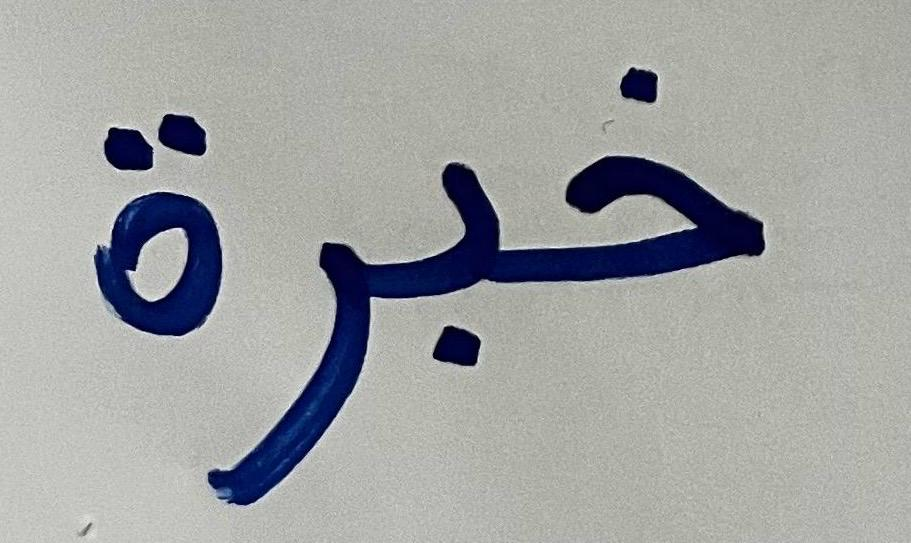beh: (384, 50, 527, 413)
khah: (543, 18, 784, 361)
reh: (246, 166, 378, 494)
teh_marbota: (84, 83, 240, 357)
